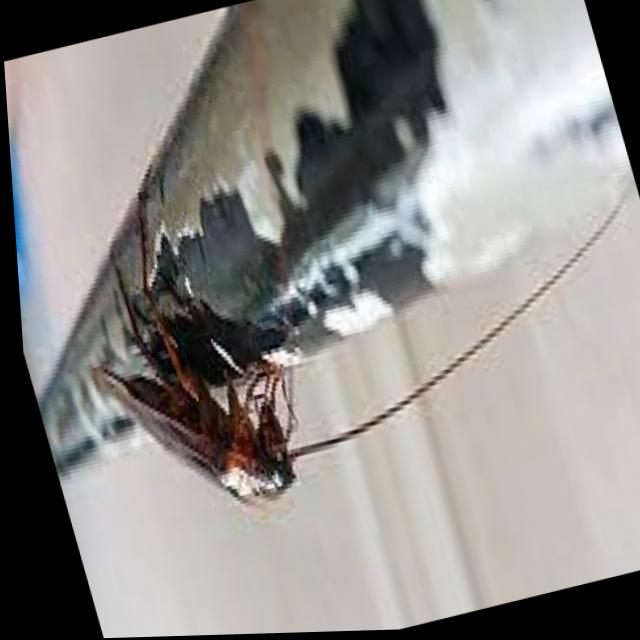Cockroach: (49, 180, 506, 567)
